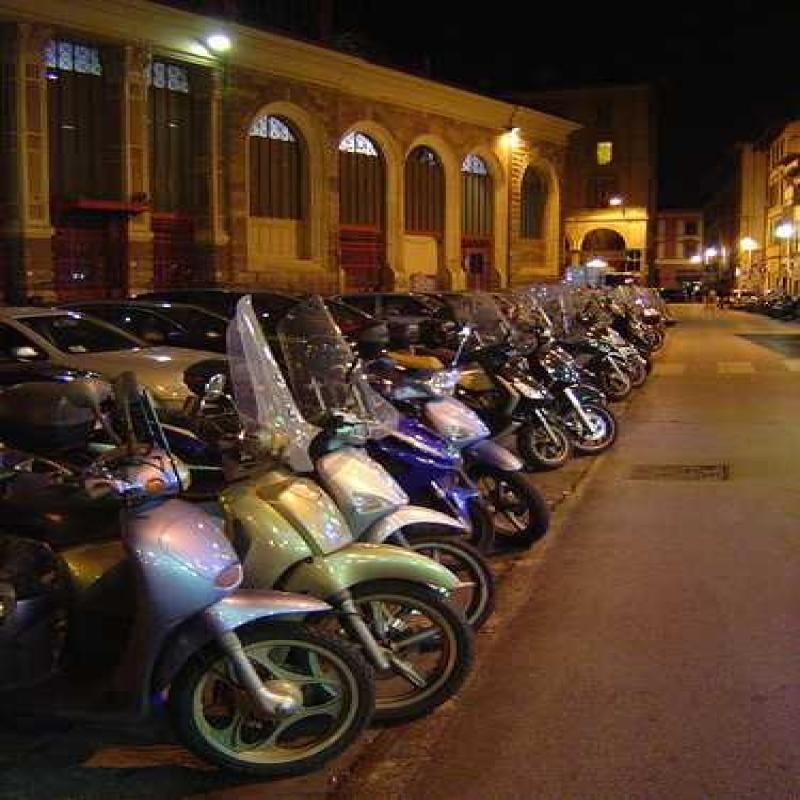bike: (24, 386, 368, 779), (155, 409, 459, 733), (254, 338, 543, 615), (389, 319, 544, 528), (434, 329, 591, 479), (527, 295, 633, 455)
